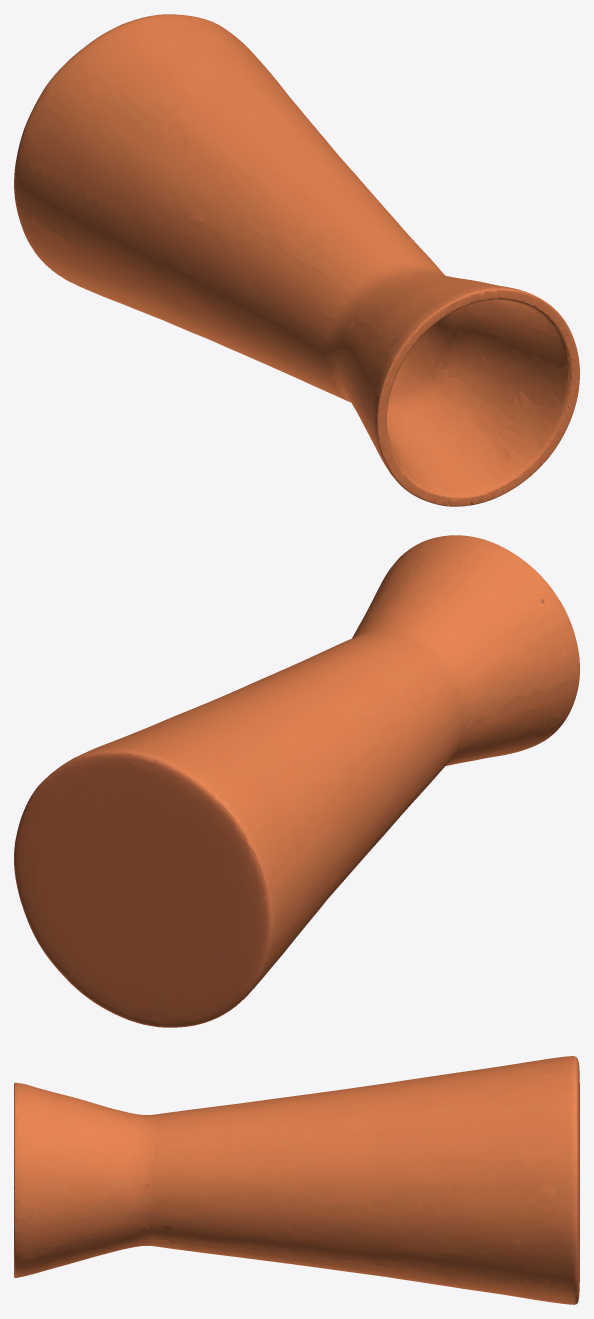
File: sister-0.glb
The picture shows the model from 3 angles, top to bottom: view 1: azimuth 30°, elevation 25°; view 2: azimuth 150°, elevation 25°; view 3: azimuth 270°, elevation 25°; orthographic projection. The views are drawn at different scales.
Visible parts, largest first — view 1: terracotta vase; view 2: terracotta vase; view 3: terracotta vase.
Part boxes in pixels (box(x1,y1,x2,y2)): terracotta vase: box(14, 14, 579, 506); terracotta vase: box(14, 535, 579, 1027); terracotta vase: box(14, 1056, 579, 1304).
Bounding box in the file's own units: 0.0863 × 0.0861 × 0.1957.
1 material, 1 textured.
